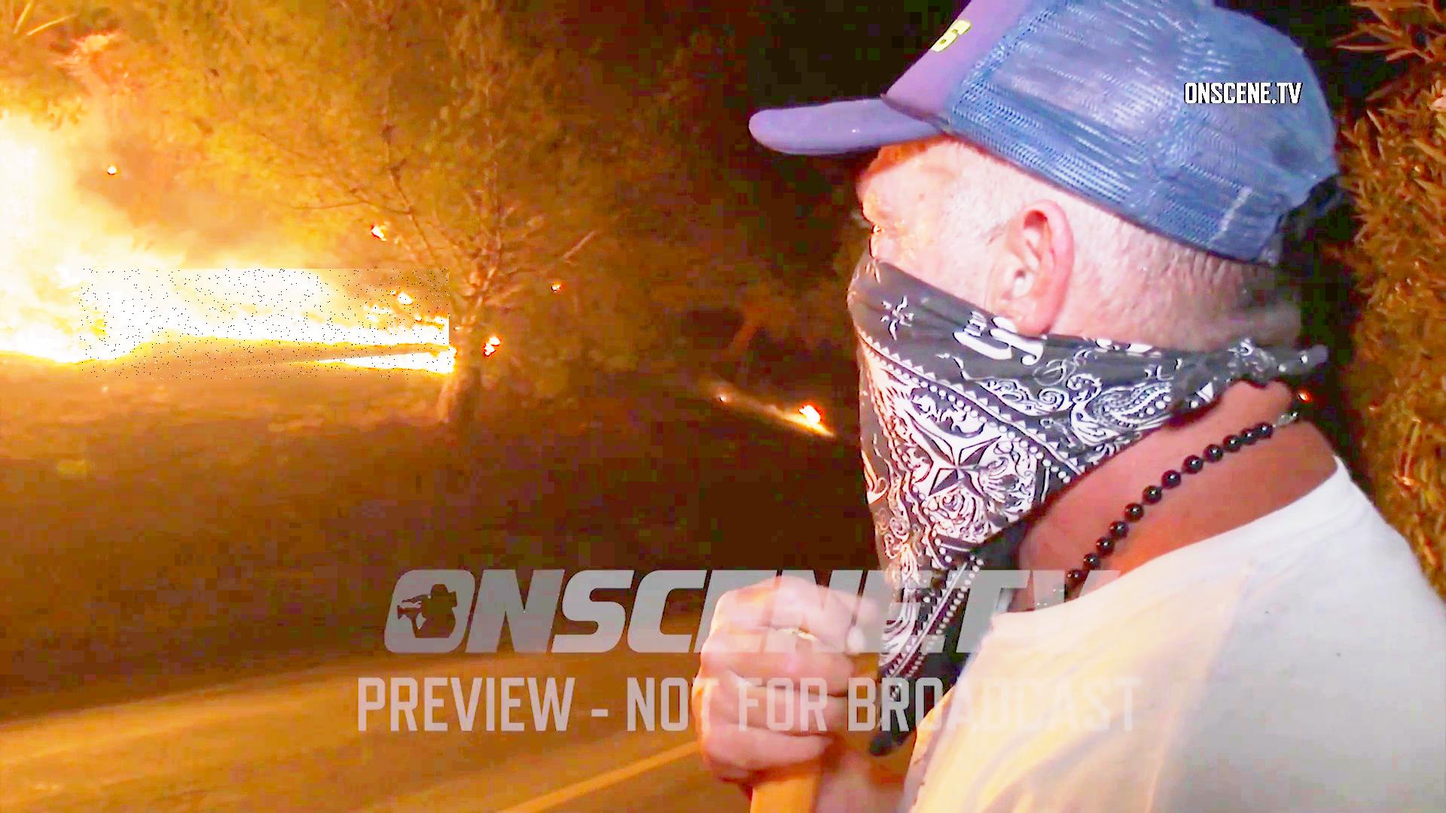fire: (80, 269, 451, 380)
